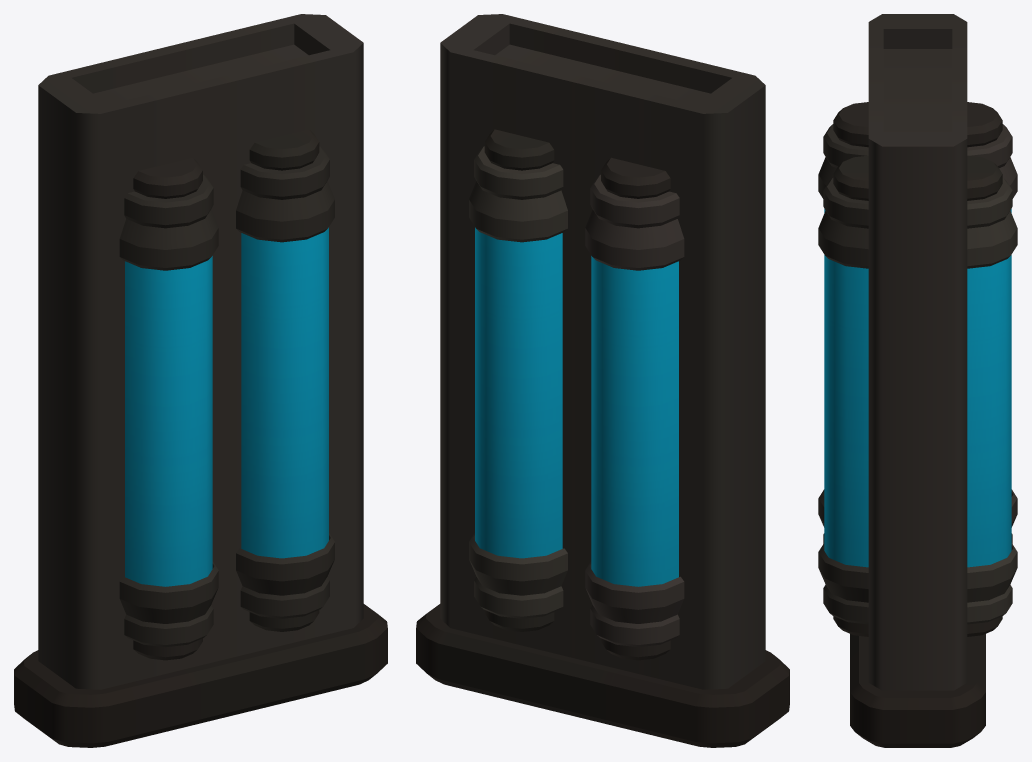
Rendered from SMG11_MagazineExtended.fbx.
The picture shows the model from 3 angles, left to right: view 1: azimuth 30°, elevation 25°; view 2: azimuth 150°, elevation 25°; view 3: azimuth 270°, elevation 25°; orthographic projection. The views are drawn at different scales.
Visible parts, largest first — view 1: SMG11_MagazineExtended; view 2: SMG11_MagazineExtended; view 3: SMG11_MagazineExtended.
Boxes of the visible parts, bbox=[...] form: SMG11_MagazineExtended: bbox=[14, 14, 387, 747]; SMG11_MagazineExtended: bbox=[416, 14, 789, 747]; SMG11_MagazineExtended: bbox=[818, 14, 1017, 747].
Size of the model in its own units: 7.42 by 13.31 by 4.04.
